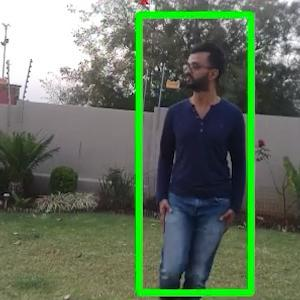follow: (153, 36, 248, 299)
